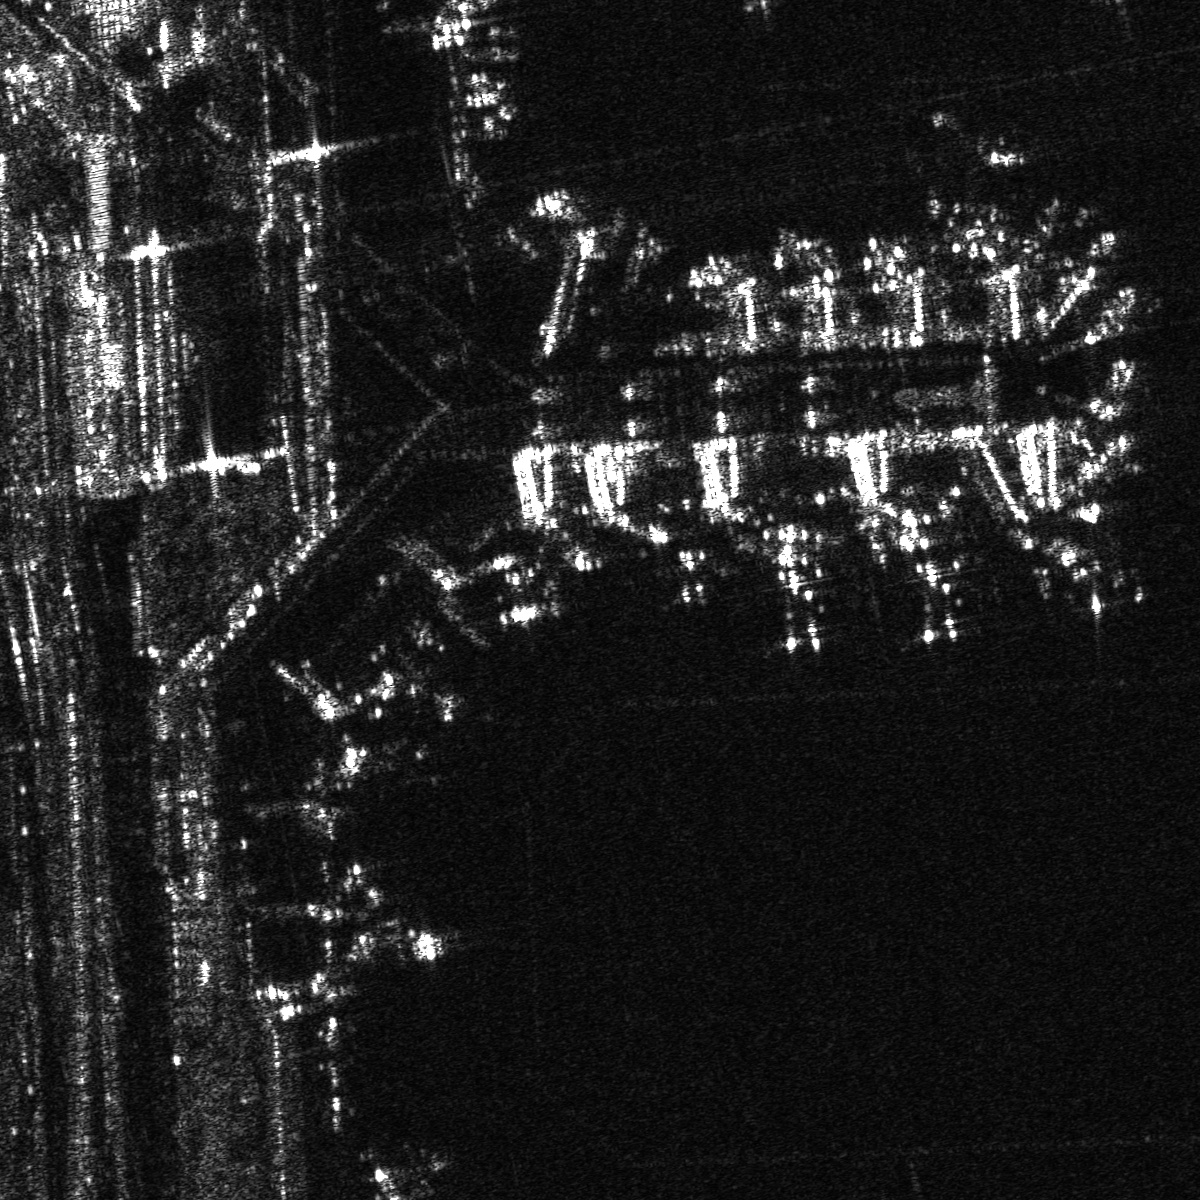A220: (925, 136, 1027, 245), (651, 541, 731, 610)
A320/321: (324, 884, 452, 970), (387, 663, 469, 727)
Boeing737: (1023, 529, 1137, 629)
Boeing787: (738, 537, 848, 660)
other: (889, 526, 989, 645)
